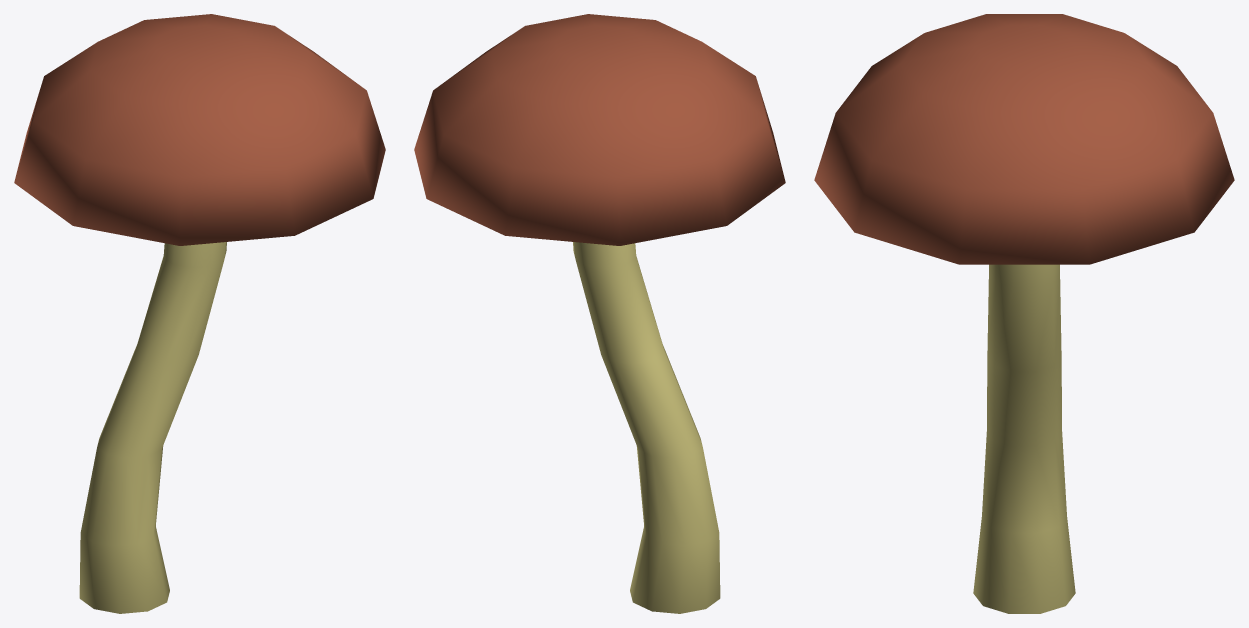
File: Mushroom_Brown_Tall_4.fbx
The picture shows the model from 3 angles, left to right: view 1: azimuth 30°, elevation 25°; view 2: azimuth 150°, elevation 25°; view 3: azimuth 270°, elevation 25°; orthographic projection. The views are drawn at different scales.
Parts seen in each view (by area): view 1: Cylinder.237, Cylinder.238; view 2: Cylinder.237, Cylinder.238; view 3: Cylinder.237, Cylinder.238.
Part boxes in pixels (left/top/right/bottom): Cylinder.237: left=14, top=14, right=385, bottom=245; Cylinder.238: left=79, top=242, right=226, bottom=613; Cylinder.237: left=414, top=14, right=785, bottom=245; Cylinder.238: left=573, top=242, right=720, bottom=613; Cylinder.237: left=814, top=14, right=1234, bottom=264; Cylinder.238: left=973, top=264, right=1075, bottom=613.
Bounding box in the file's own units: 82.22 × 133 × 86.45.
